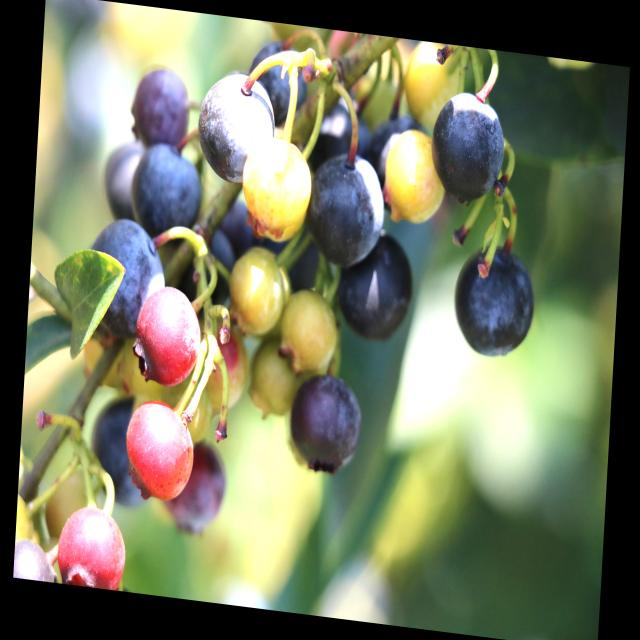blueberry: (298, 138, 392, 280), (79, 207, 172, 349), (447, 236, 541, 366), (422, 80, 511, 215), (191, 62, 280, 195), (329, 223, 422, 348), (120, 128, 210, 253), (80, 386, 162, 517), (284, 364, 369, 479), (360, 104, 434, 223), (242, 32, 317, 138), (300, 89, 378, 176), (174, 220, 241, 318), (127, 57, 195, 153), (96, 132, 149, 226), (215, 194, 264, 267), (13, 532, 64, 584)
blueberry-halfripe: (121, 393, 198, 506), (132, 280, 202, 388), (56, 498, 130, 592)
blueberry-unripe: (242, 130, 312, 232), (381, 122, 447, 227), (279, 277, 343, 383), (230, 246, 286, 340), (247, 343, 298, 422)
